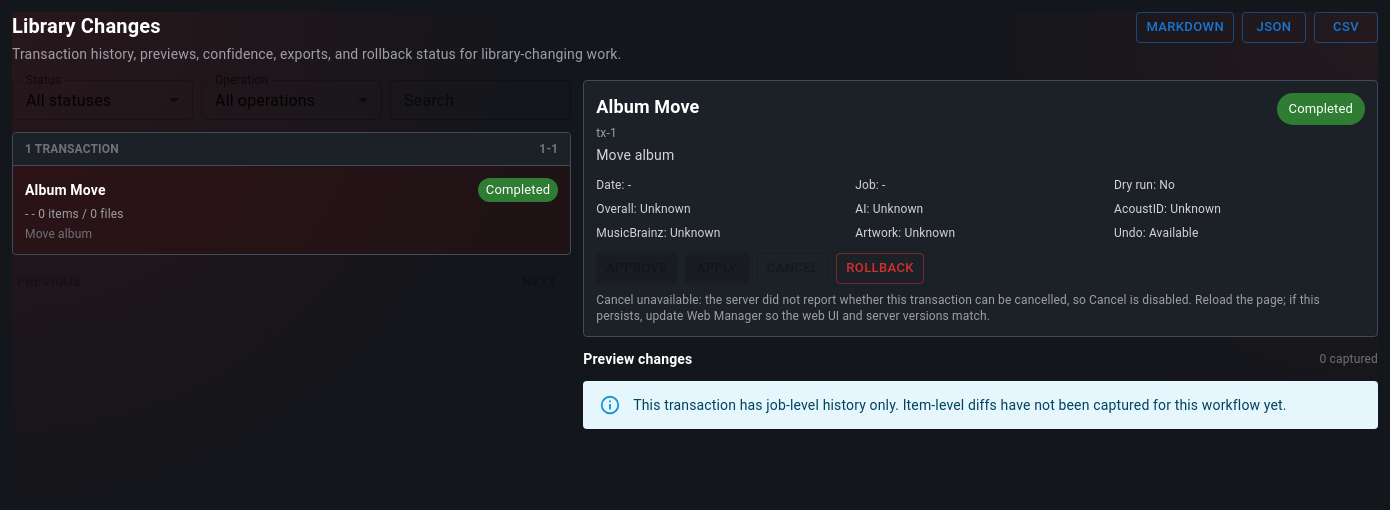
Test: Library Changes 0.4 transaction contract (#348) › shows restored and adopted counts after a rollback
The image size is (1390, 510).
Click the button "Rollback" at (880, 268), box [836, 253, 924, 284]
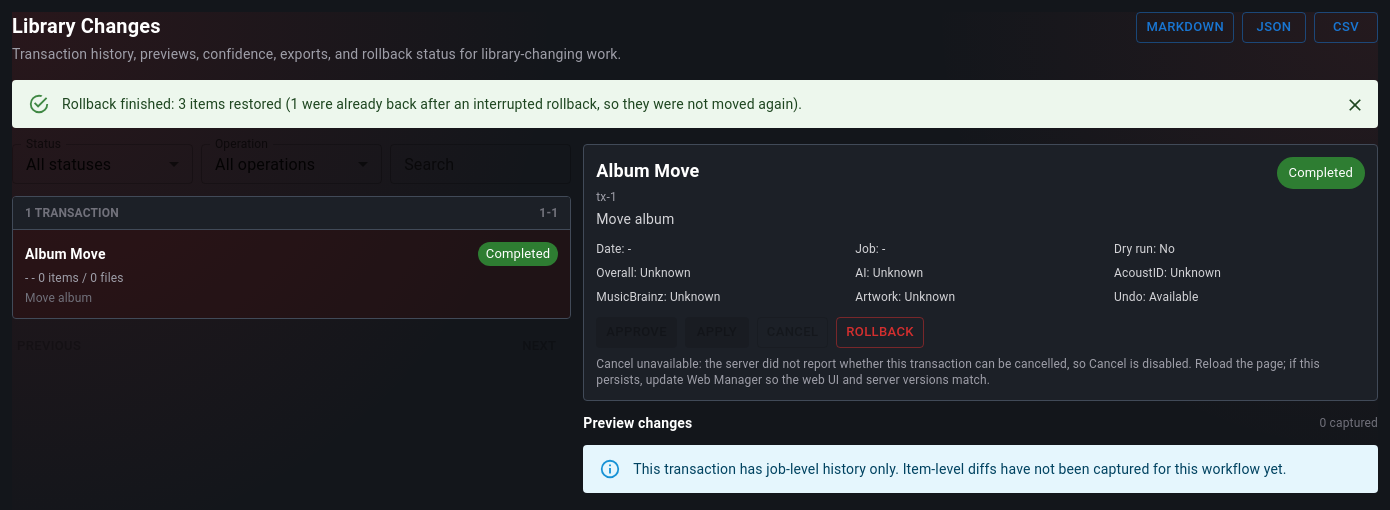
Expected: the text "3 items restored (1 were already back" is shown, [62, 96, 802, 112]
